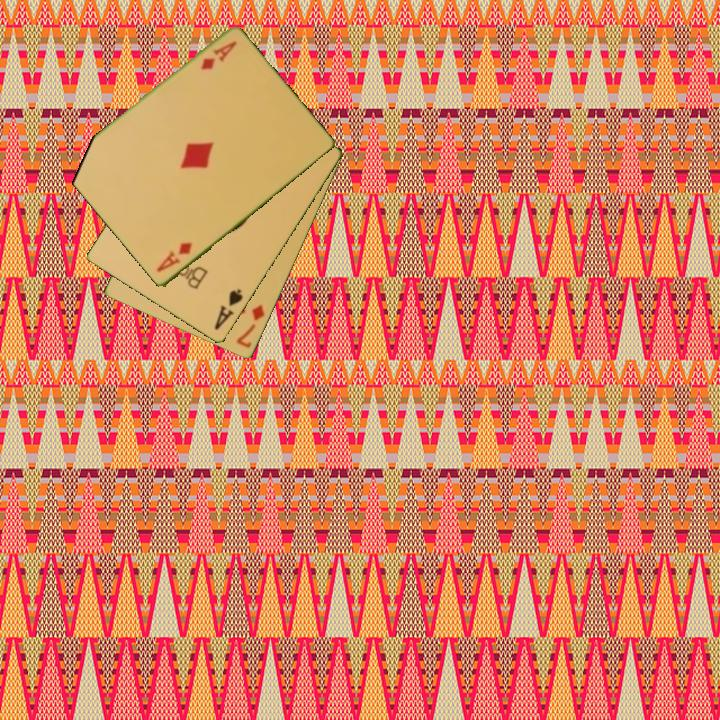7d: (233, 301, 268, 351)
Ad: (152, 239, 195, 275), (197, 38, 240, 73)
As: (211, 286, 246, 334)
